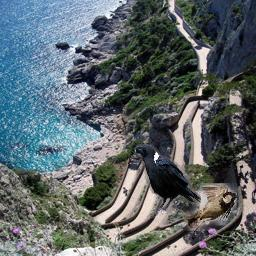Crow: (135, 144, 202, 218)
Sparrow: (183, 183, 237, 231)
